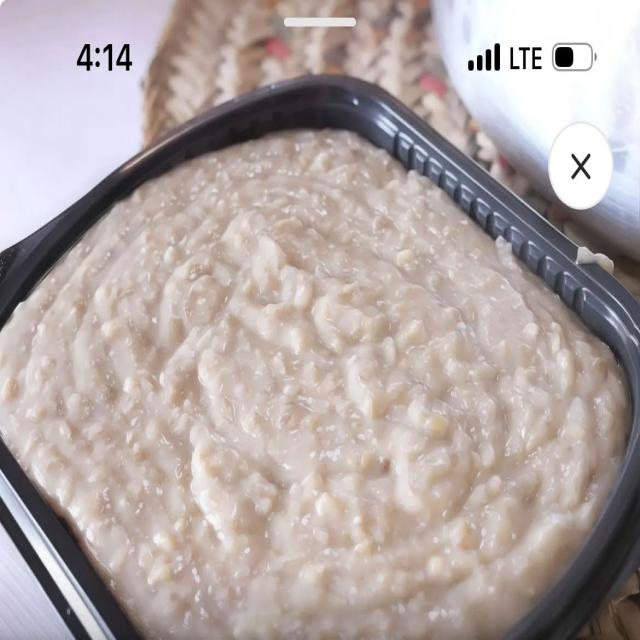Harees: (0, 113, 635, 639)
